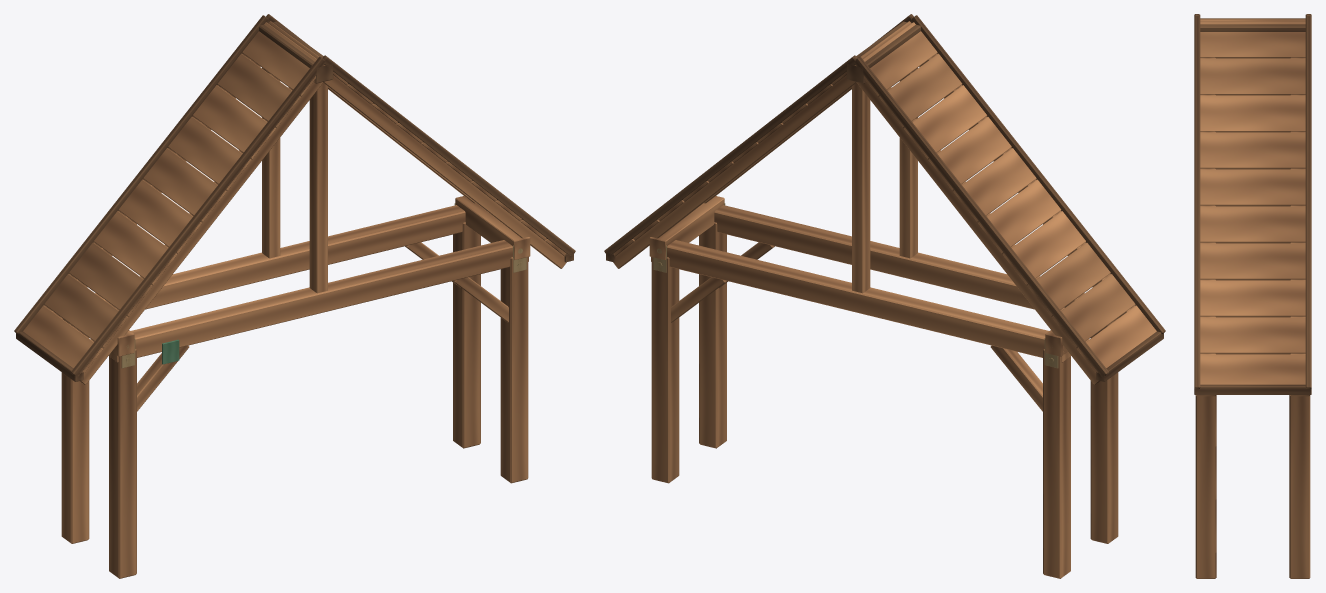
File: town_building_a_frame_bay_v01.glb
3 views of the same model, side by side, from view 1: azimuth 30°, elevation 25°; view 2: azimuth 150°, elevation 25°; view 3: azimuth 270°, elevation 25° (orthographic).
Parts seen in each view (by area): view 1: LOD0_Static; view 2: LOD0_Static; view 3: LOD0_Static.
Boxes of the visible parts, x1,y1,x2,y2 form: LOD0_Static: [14, 14, 575, 578]; LOD0_Static: [604, 14, 1165, 578]; LOD0_Static: [1194, 14, 1311, 578].
Size of the model in its own units: 4.88 by 4.38 by 1.
Materials: 3 (3 with a texture image).
